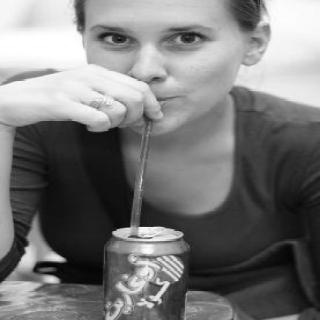alumunium_can: (100, 227, 190, 320)
